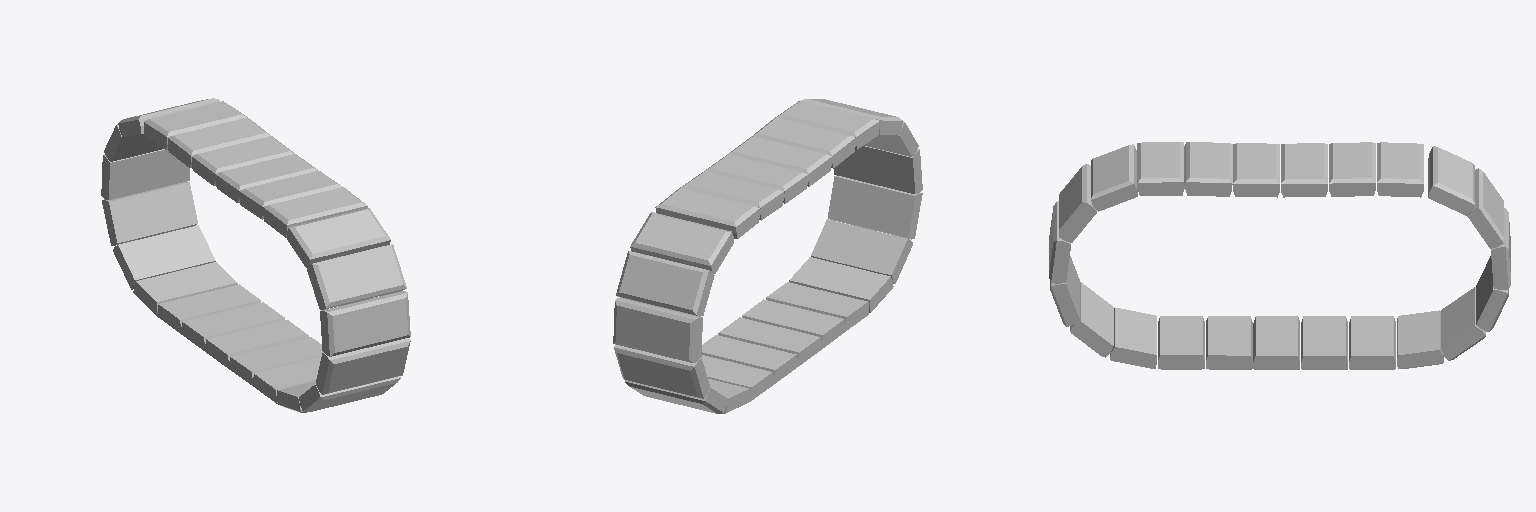
File: TankCaterpillarRight.obj
3 views of the same model, side by side, from view 1: azimuth 30°, elevation 25°; view 2: azimuth 150°, elevation 25°; view 3: azimuth 270°, elevation 25° (orthographic).
Visible parts, largest first — view 1: TankCaterpillarRight_Untitled.007; view 2: TankCaterpillarRight_Untitled.007; view 3: TankCaterpillarRight_Untitled.007.
Part boxes in pixels (x1,y1,x2,y2): TankCaterpillarRight_Untitled.007: (101,98,410,412); TankCaterpillarRight_Untitled.007: (613,99,922,413); TankCaterpillarRight_Untitled.007: (1049,142,1510,369).
Size of the model in its own units: 0.4231 by 0.9629 by 2.1.